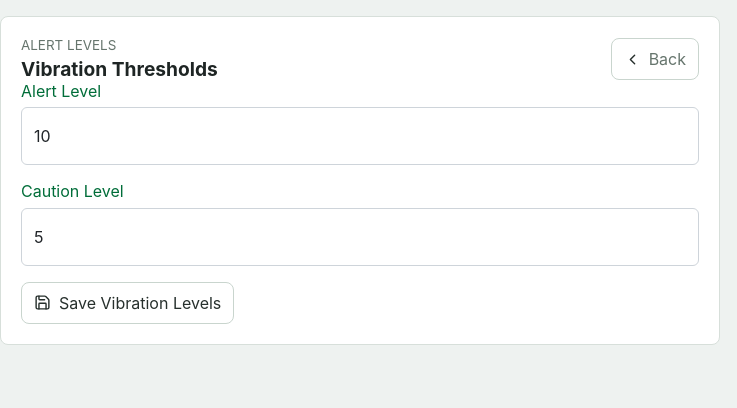
Test case: Alert level thresholds › refuses a non-numeric vibration threshold and keeps the saved notice visible
Replace the text in the field labelled "Alert Level" with "1o" at (360,136), box [21,107,699,165]
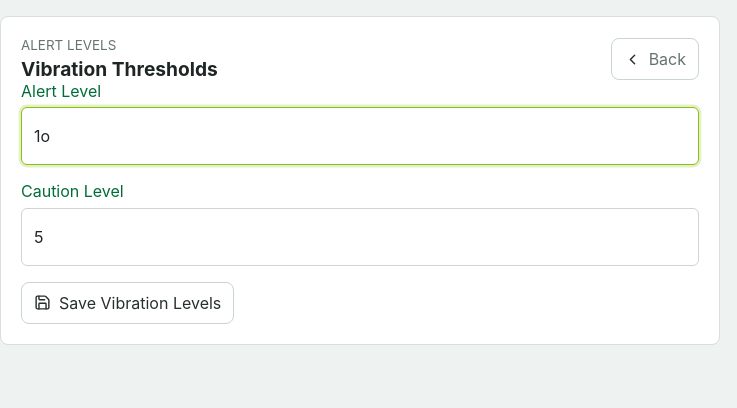
Click the button "Save Vibration Levels" at (128,303), box [21,282,234,324]
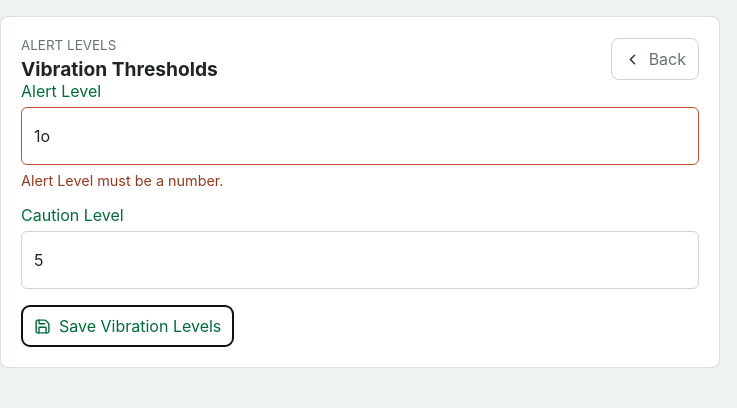
Result: the text "Alert Level must be a number." is shown at [21,172,224,189]
Replace the text in the field labelled "Alert Level" with "12" at (360,136), box [21,107,699,165]
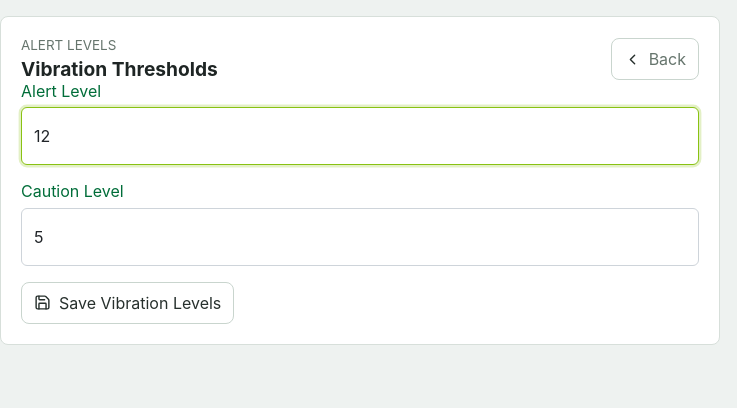
Click the button "Save Vibration Levels" at (128,303), box [21,282,234,324]
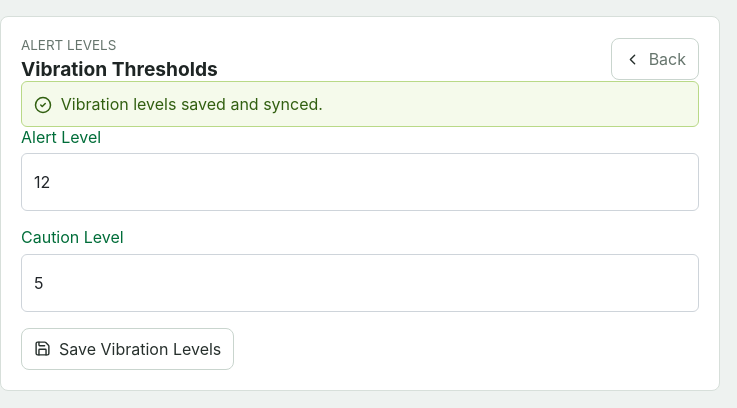
Result: the text "Vibration levels saved and synced." is shown at [61,94,323,114]
